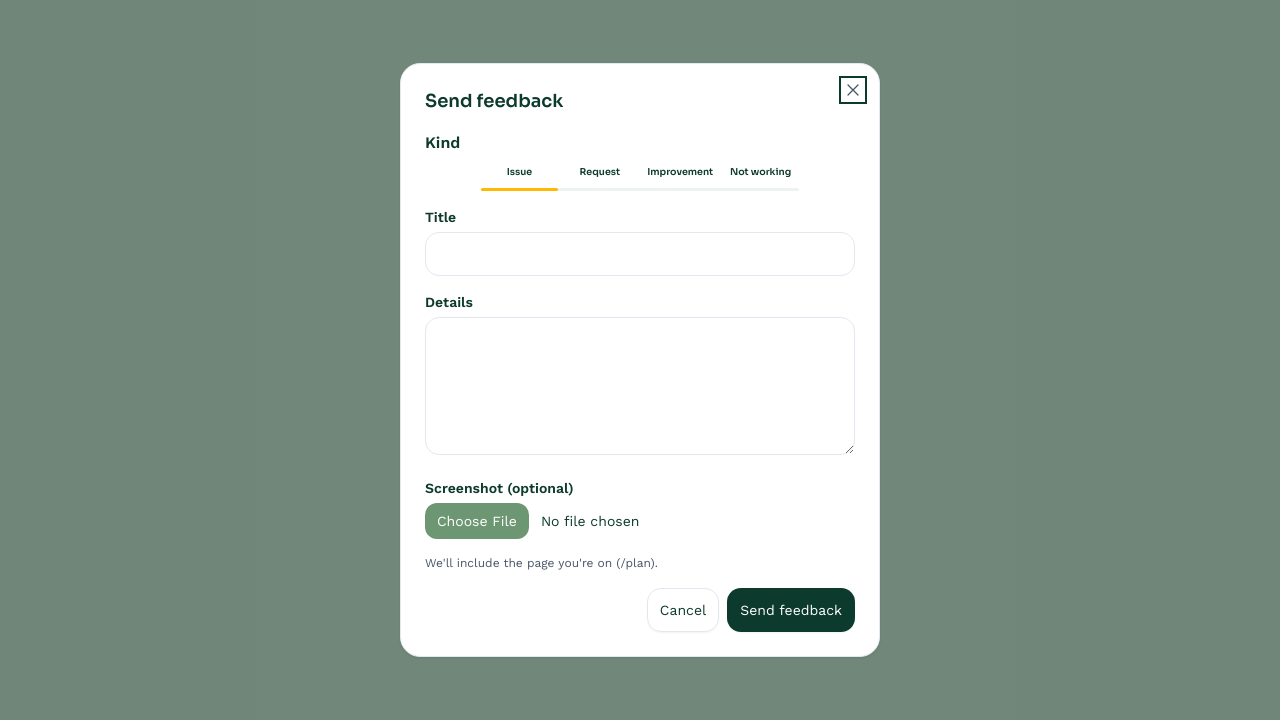
Test: a rate limit reads calmly
The image size is (1280, 720).
Type "Plan is empty" into the field labelled "Title" at (640, 254), box [425,232,855,276]
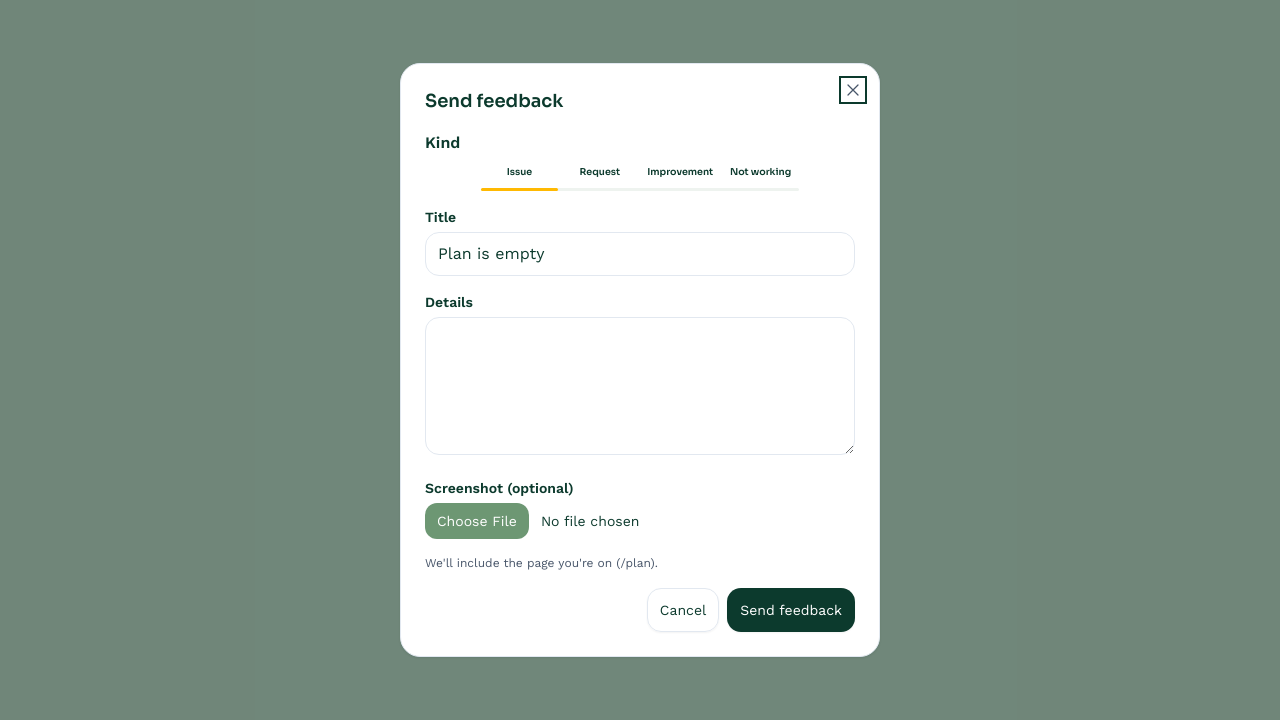
Type "Generated nothing for Monday" into the text box labelled "Details" at (640, 386), box [425,317,855,455]
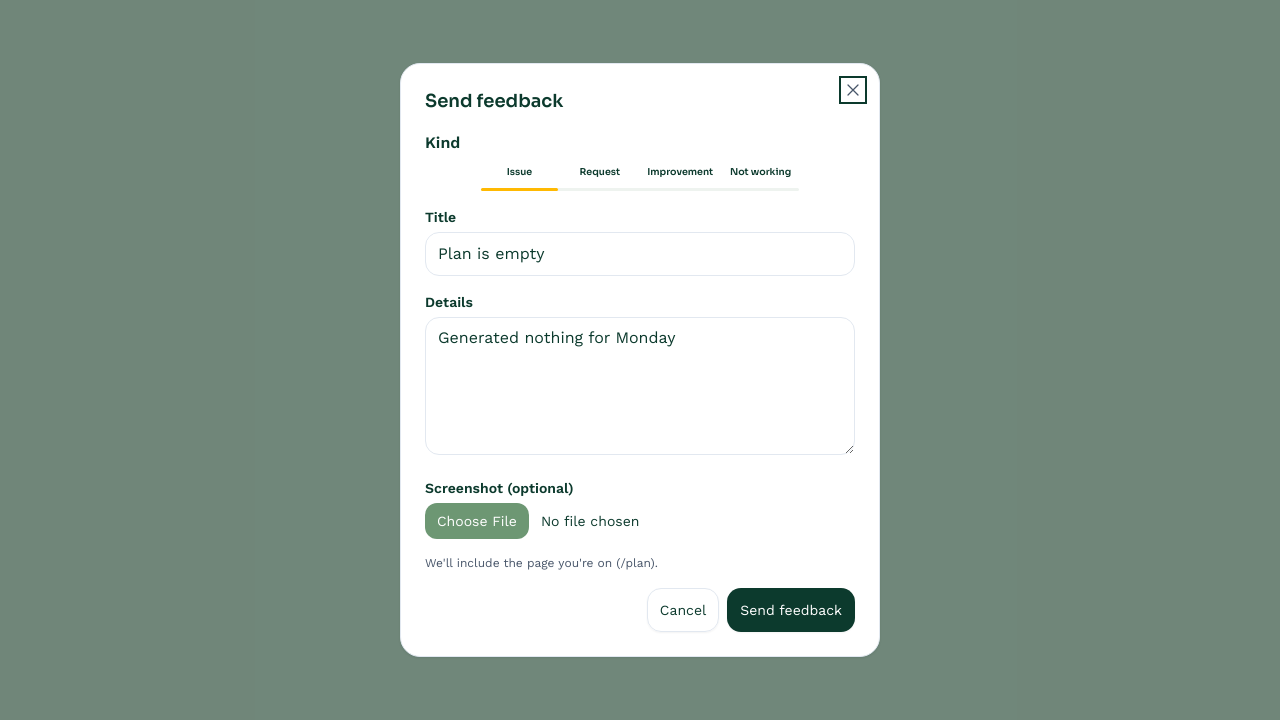
Click the button "Send feedback" at (791, 610), box [727,588,855,632]
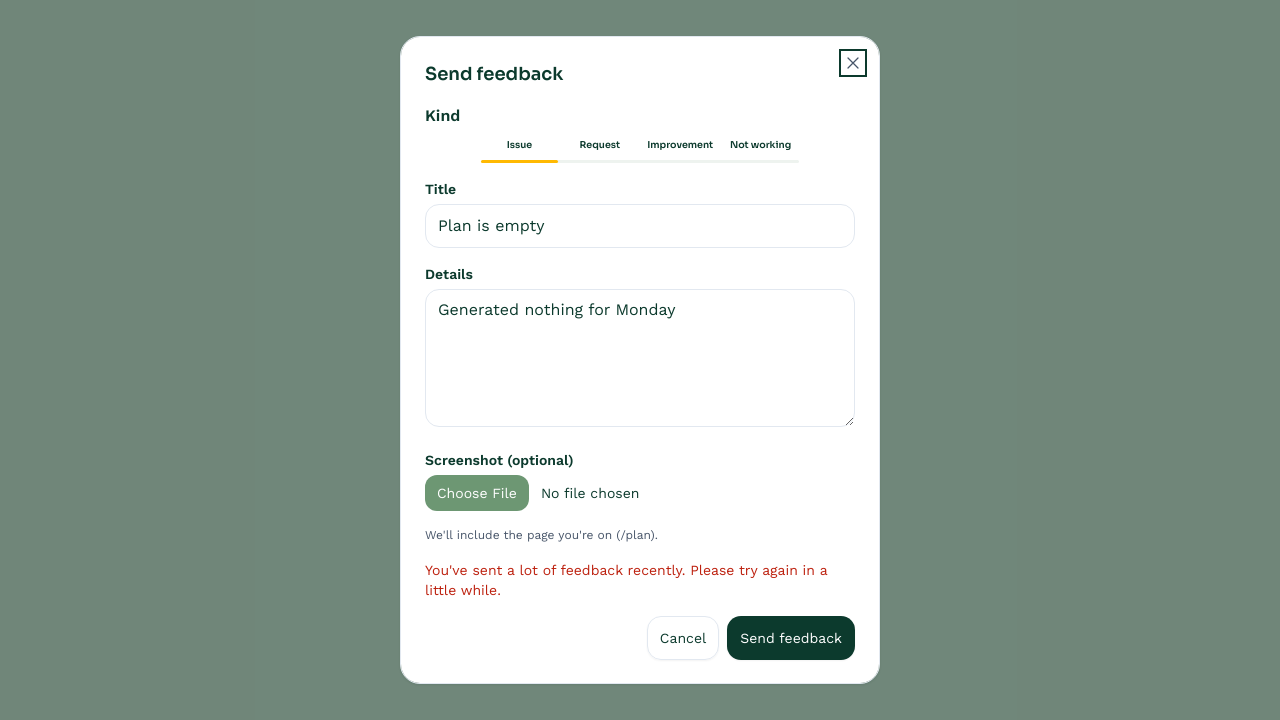
Result: the text "You've sent a lot of feedback recently. Please try again in a little while." is shown at [425,560,855,600]
